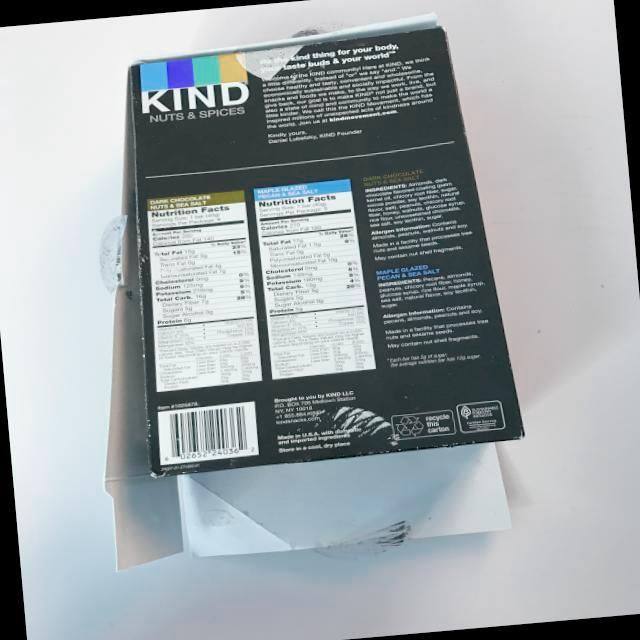paper: (80, 9, 567, 568)
